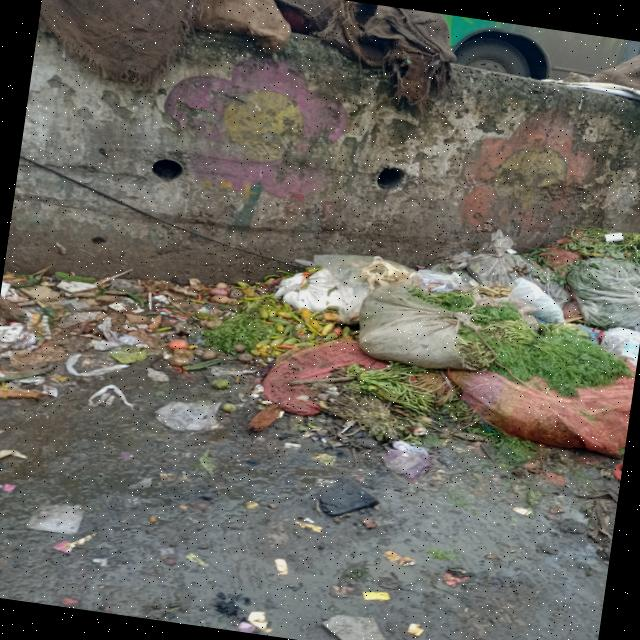garbage: (0, 210, 431, 445), (413, 205, 640, 479)
